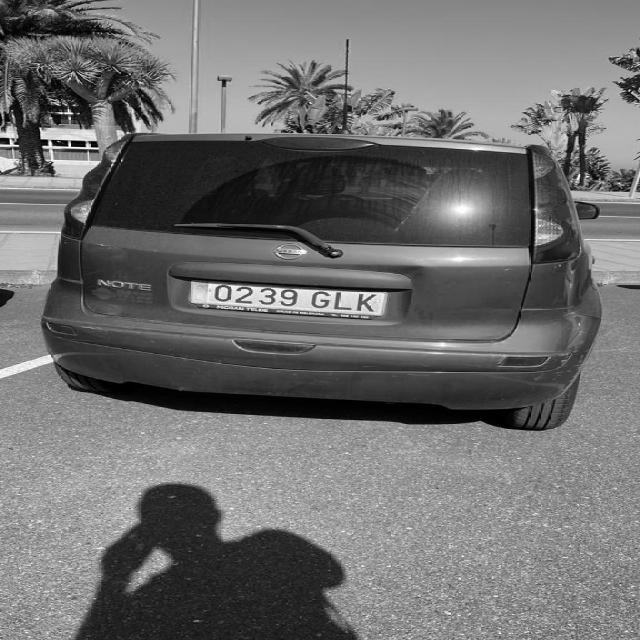License-Plate: (190, 277, 388, 320)
